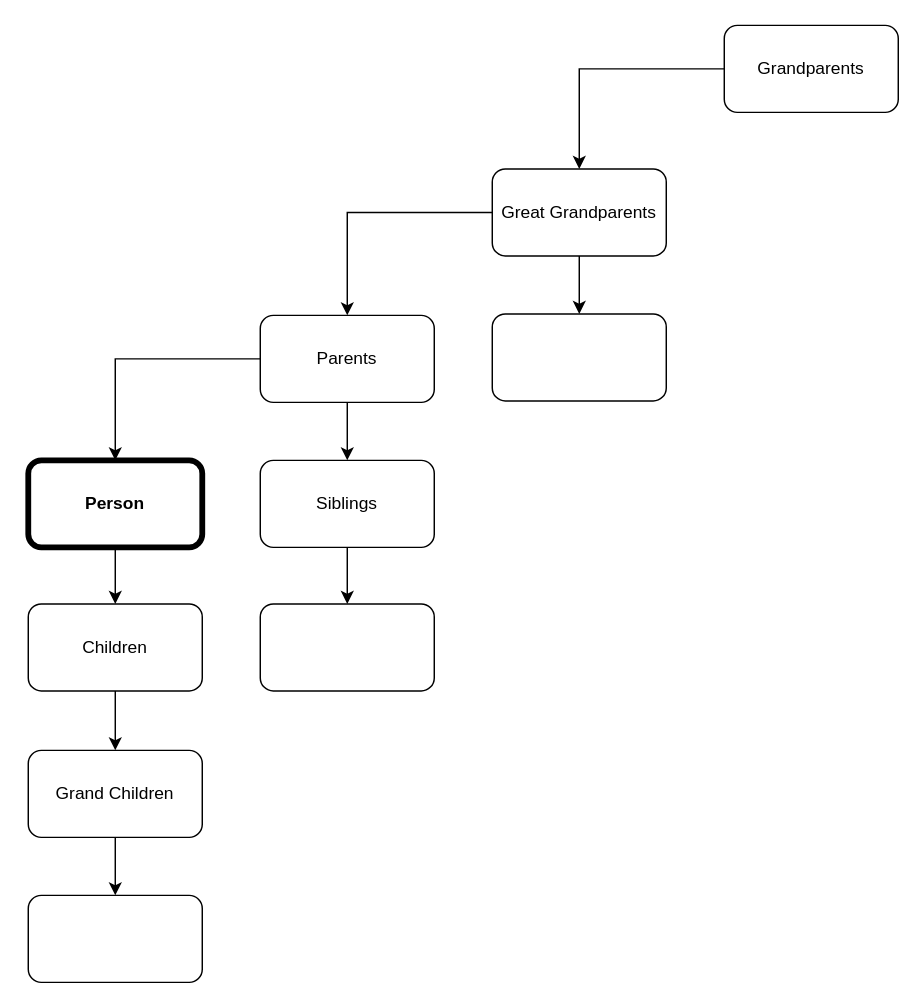
Some shapes in this 924 by 1008 pixel diagram are drawn without their labels. Each missing label, with the centre of its shape:
Great Grand Children: [114,938]
Nephwes & Nieces: [346,646]
Uncles & Aunts: [578,356]
